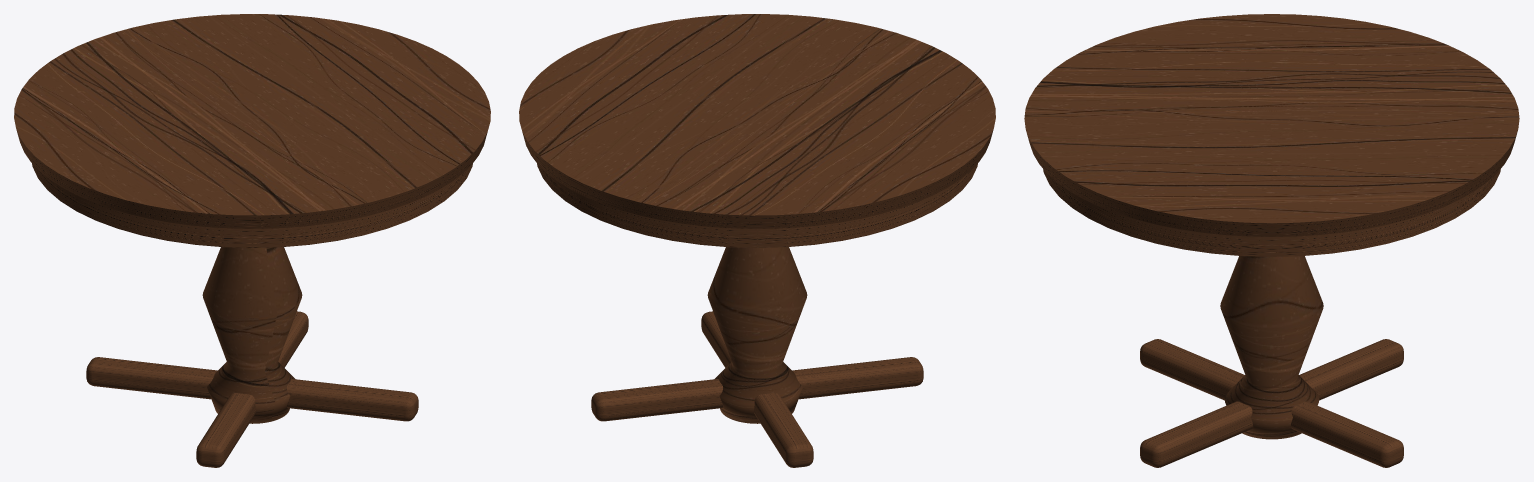
The model's file is mesa-jantar-redonda-pe-central.glb.
The picture shows the model from 3 angles, left to right: view 1: azimuth 30°, elevation 25°; view 2: azimuth 150°, elevation 25°; view 3: azimuth 270°, elevation 25°; orthographic projection. The views are drawn at different scales.
Visible parts, largest first — view 1: table; view 2: table; view 3: table.
Boxes of the visible parts, x1,y1,x2,y2 form: table: (14, 14, 490, 467); table: (519, 14, 995, 467); table: (1024, 14, 1519, 467).
Size of the model in its own units: 1.15 by 0.78 by 1.15.
1 material, 1 textured.
